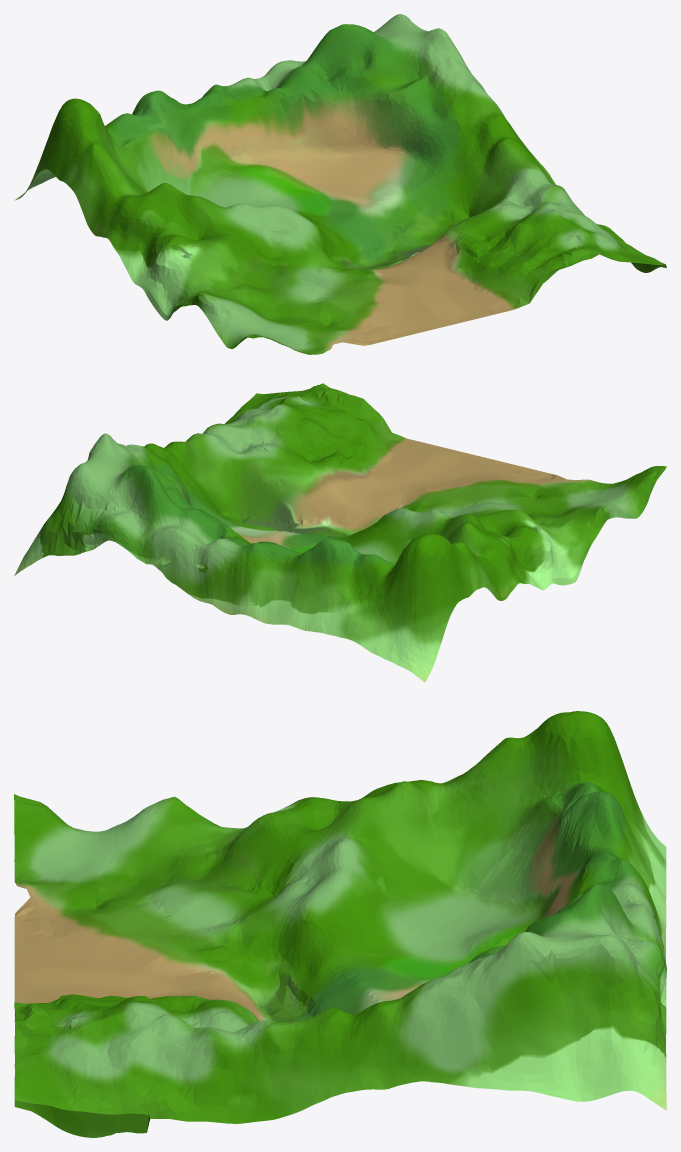
File: Map01_20000.fbx
3 renders of one model, top to bottom at view 1: azimuth 30°, elevation 25°; view 2: azimuth 150°, elevation 25°; view 3: azimuth 270°, elevation 25°, orthographic. The views are drawn at different scales.
Parts seen in each view (by area): view 1: Map1_20000p; view 2: Map1_20000p; view 3: Map1_20000p.
Part boxes in pixels (x1,y1,x2,y2): Map1_20000p: (14,14,666,354); Map1_20000p: (14,383,666,682); Map1_20000p: (14,711,666,1137).
Bounding box in the file's own units: 20038 × 20279 × 6426.
